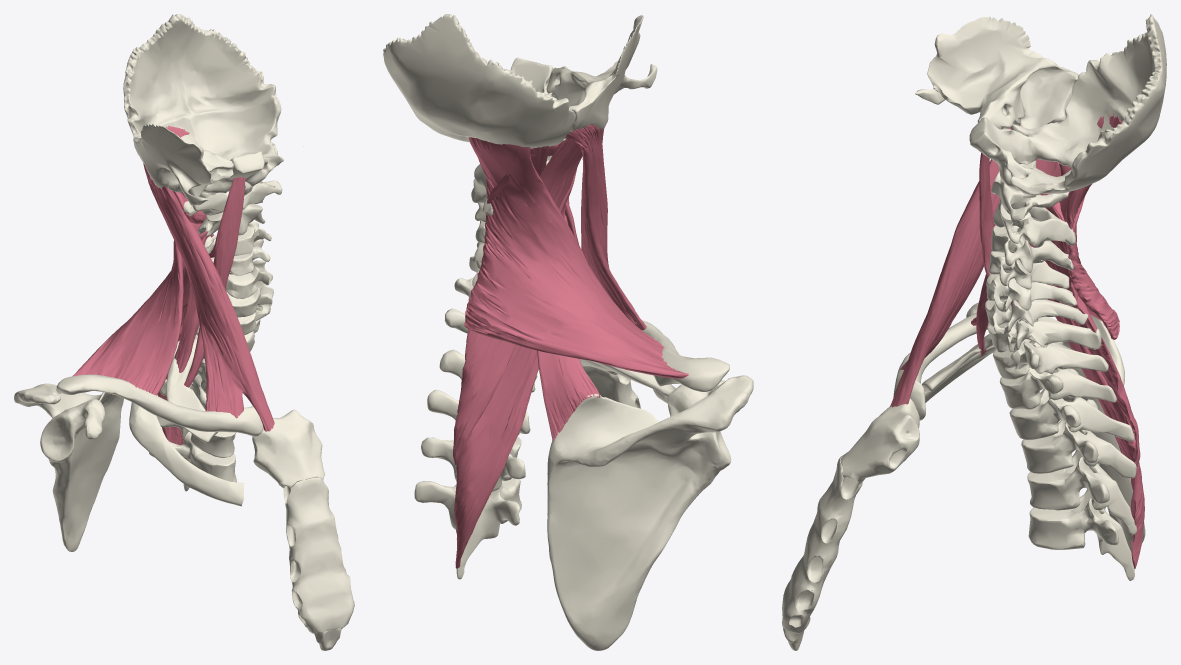
Rendered from neck.glb.
3 views of the same model, side by side, from view 1: azimuth 30°, elevation 25°; view 2: azimuth 150°, elevation 25°; view 3: azimuth 270°, elevation 25° (orthographic). The views are drawn at different scales.
Visible parts, largest first — view 1: occipital-bone, sternum, scapula, sternocleidomastoid, upper-trapezius, temporal-bone, clavicle, rib-2, longus-capitis, scalenes, rib-1, cervical-1 (+7 smaller); view 2: scapula, upper-trapezius, occipital-bone, splenius-cervicis, splenius-capitis, sternocleidomastoid, temporal-bone, levator-scapulae, thoracic-6, clavicle, thoracic-5, sternum (+3 smaller); view 3: occipital-bone, temporal-bone, sternum, sternocleidomastoid, thoracic-6, thoracic-5, thoracic-4, thoracic-3, thoracic-2, thoracic-1, upper-trapezius, cervical-7 (+14 smaller).
Boxes of the visible parts, x1,y1,x2,y2 form: occipital-bone: (123, 14, 283, 193); sternum: (252, 409, 354, 650); scapula: (14, 383, 123, 551); sternocleidomastoid: (143, 163, 274, 431); upper-trapezius: (72, 126, 213, 395); temporal-bone: (133, 123, 233, 211); clavicle: (56, 374, 263, 436); rib-2: (129, 340, 243, 506); longus-capitis: (209, 177, 245, 289); scalenes: (174, 236, 205, 387); rib-1: (166, 334, 217, 443); cervical-1: (182, 180, 282, 216); scapula: (547, 375, 753, 650); upper-trapezius: (464, 137, 688, 378); occipital-bone: (383, 14, 575, 148); splenius-cervicis: (454, 345, 538, 568); splenius-capitis: (453, 138, 582, 465); sternocleidomastoid: (565, 124, 646, 330); temporal-bone: (546, 15, 657, 131); levator-scapulae: (537, 169, 600, 441); thoracic-6: (414, 478, 521, 579); clavicle: (642, 320, 729, 391); thoracic-5: (421, 437, 525, 532); sternum: (580, 359, 640, 408); occipital-bone: (969, 14, 1166, 195); temporal-bone: (915, 16, 1078, 129); sternum: (782, 398, 919, 650); sternocleidomastoid: (890, 127, 1010, 407); thoracic-6: (1028, 480, 1134, 580); thoracic-5: (1027, 450, 1136, 535); thoracic-4: (1021, 399, 1136, 478); thoracic-3: (1009, 368, 1134, 441); thoracic-2: (999, 341, 1116, 409); thoracic-1: (993, 321, 1108, 379); upper-trapezius: (971, 113, 1122, 339); cervical-7: (987, 316, 1101, 352).
Bounding box in the file's own units: 0.2279 × 0.4205 × 0.2318.
